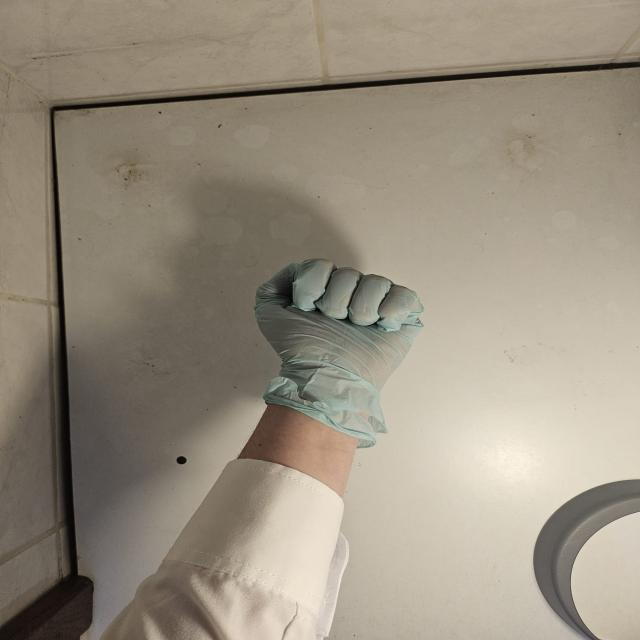gloves_damaged: (253, 254, 423, 451)
